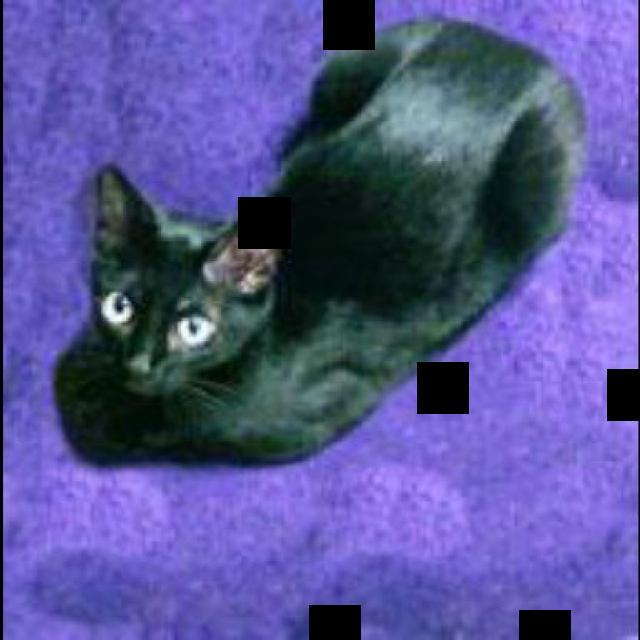unauthorized: (52, 14, 588, 466)
